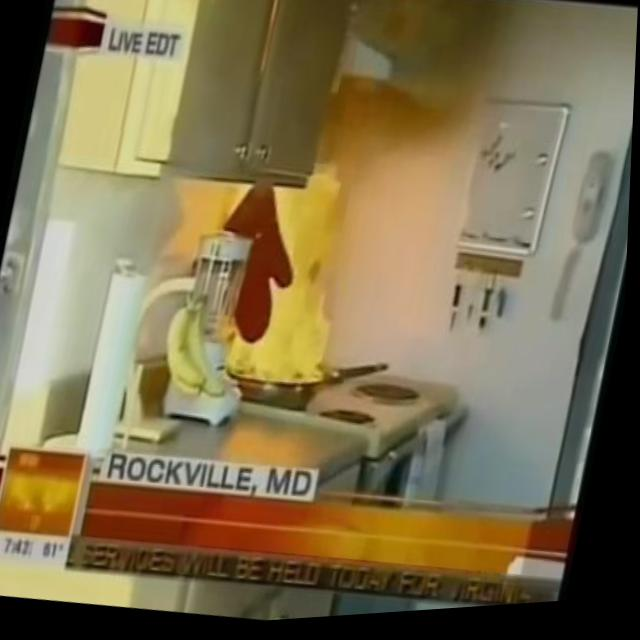fire: (245, 162, 364, 395)
